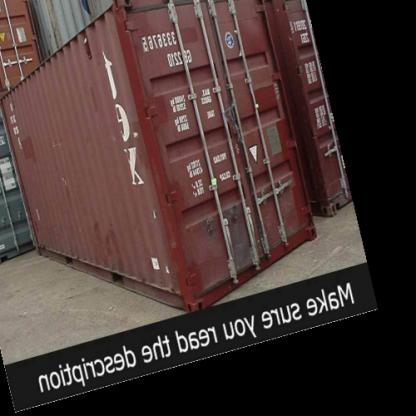Damage: (219, 237, 262, 272), (147, 201, 172, 224), (32, 201, 46, 226), (54, 170, 73, 186)
